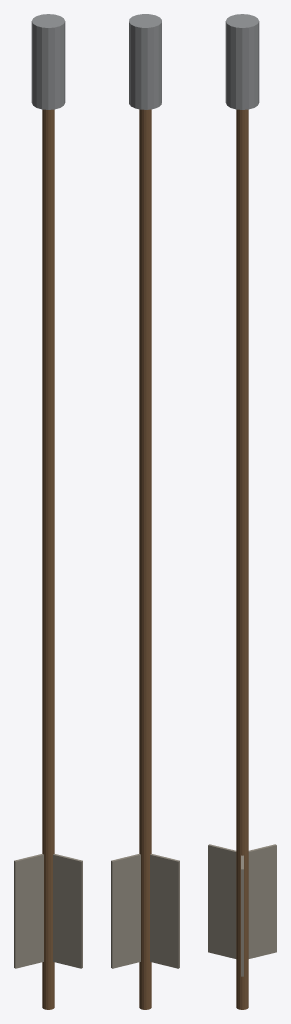
File: iron_arrow.glb
The picture shows the model from 3 angles, left to right: view 1: azimuth 90°, elevation 25°; view 2: azimuth 210°, elevation 25°; view 3: azimuth 270°, elevation 25°; orthographic projection.
Parts seen in each view (by area): view 1: iron_arrow; view 2: iron_arrow; view 3: iron_arrow.
Boxes of the visible parts, x1,y1,x2,y2 form: iron_arrow: (14,14,82,1009); iron_arrow: (111,14,179,1009); iron_arrow: (208,14,276,1009).
Bounding box in the file's own units: 0.0429 × 0.7825 × 0.0495.
